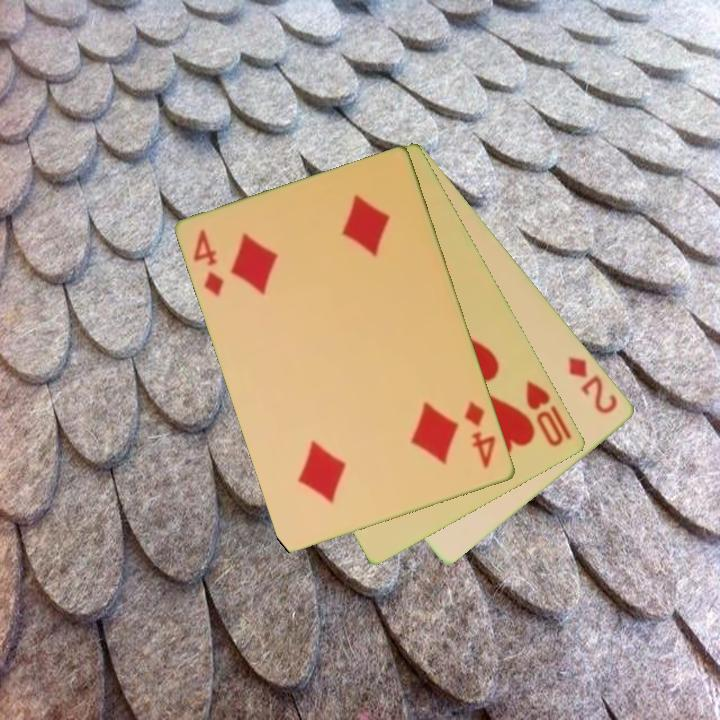10h: (523, 377, 576, 450)
2d: (565, 353, 621, 417)
4d: (461, 398, 499, 472), (190, 226, 228, 300)
